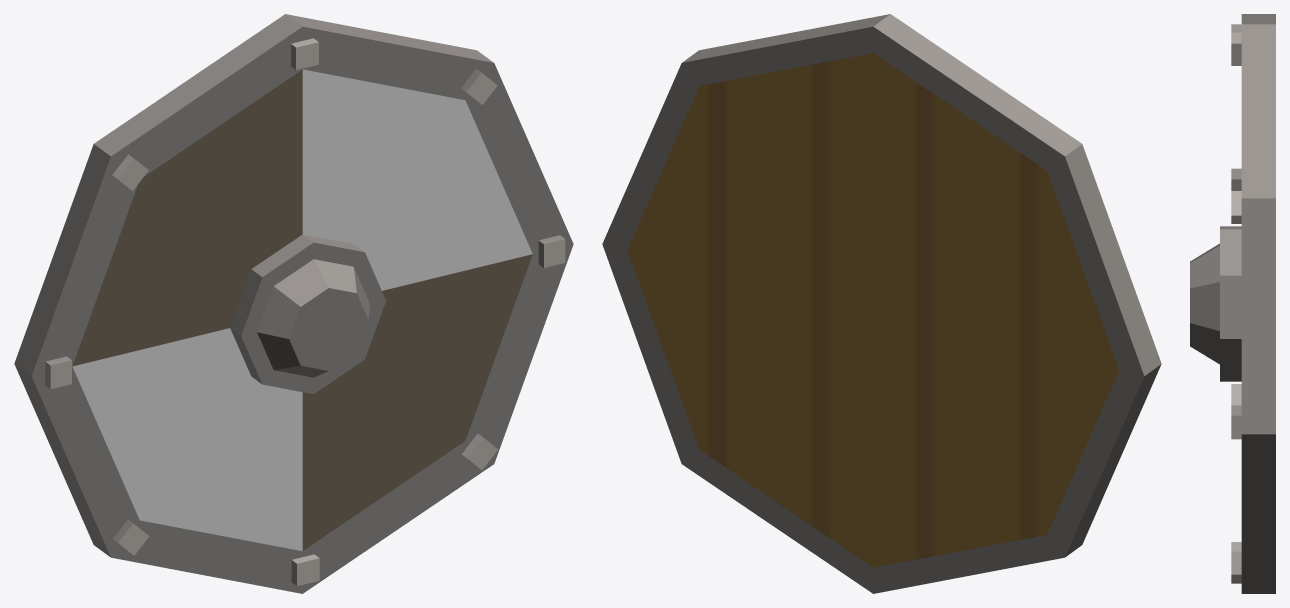
The model's file is SF_Wep_RoundShield_Pattern_010.fbx.
The picture shows the model from 3 angles, left to right: view 1: azimuth 30°, elevation 25°; view 2: azimuth 150°, elevation 25°; view 3: azimuth 270°, elevation 25°; orthographic projection.
Visible parts, largest first — view 1: SF_Wep_RoundShield_Pattern_010; view 2: SF_Wep_RoundShield_Pattern_010; view 3: SF_Wep_RoundShield_Pattern_010.
Part boxes in pixels (bbox=[...]): SF_Wep_RoundShield_Pattern_010: bbox=[14, 14, 573, 593]; SF_Wep_RoundShield_Pattern_010: bbox=[602, 14, 1161, 593]; SF_Wep_RoundShield_Pattern_010: bbox=[1190, 14, 1275, 593].
Bounding box in the file's own units: 1.4 × 1.4 × 0.1946.
